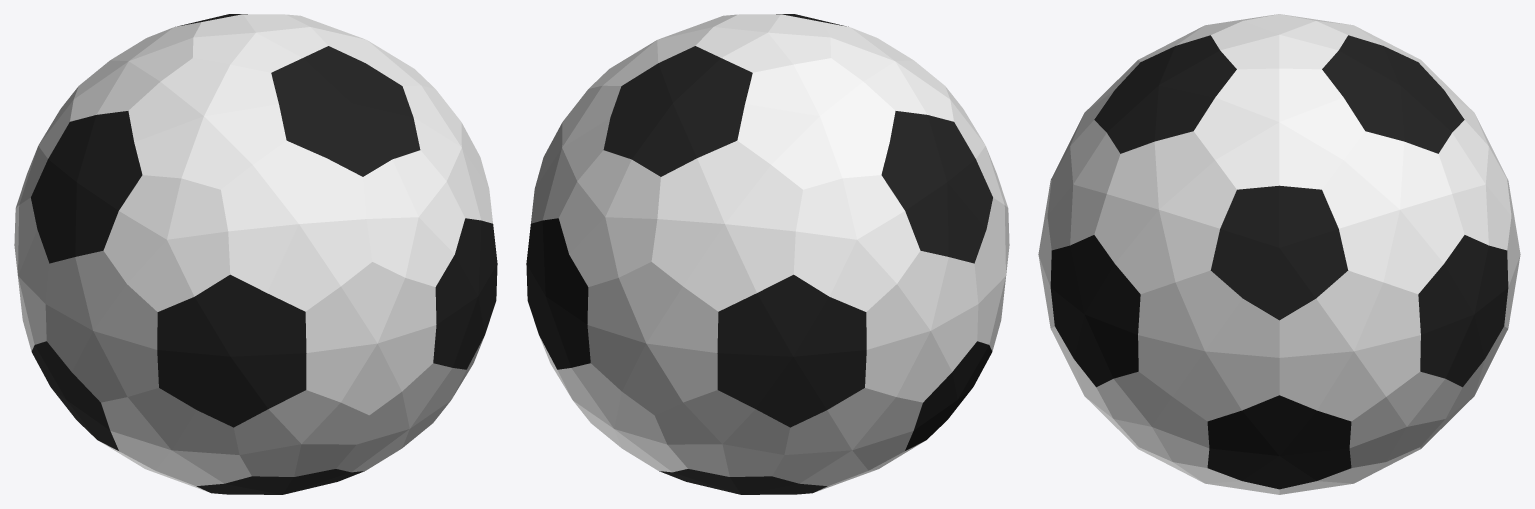
File: balla.glb
3 renders of one model, left to right at view 1: azimuth 30°, elevation 25°; view 2: azimuth 150°, elevation 25°; view 3: azimuth 270°, elevation 25°, orthographic.
Parts seen in each view (by area): view 1: Icosphere; view 2: Icosphere; view 3: Icosphere.
Boxes of the visible parts, <box> form: Icosphere: <box>14,14,497,494</box>; Icosphere: <box>526,14,1009,494</box>; Icosphere: <box>1038,14,1520,494</box>.
Size of the model in its own units: 1.85 by 1.86 by 1.85.
1 material, 1 textured.
